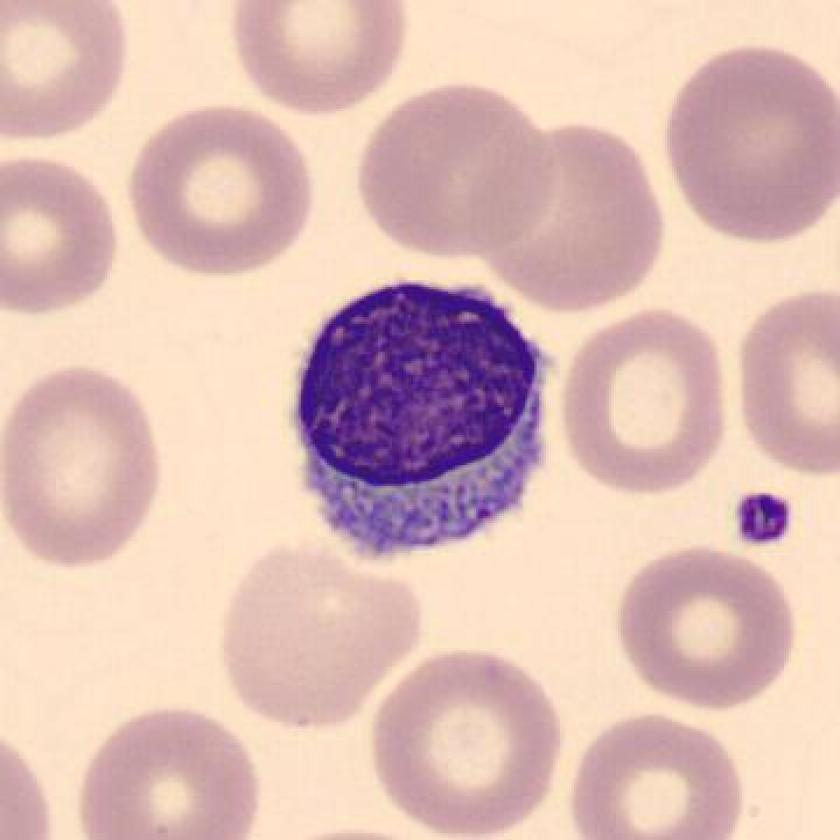lymphocyte: (288, 267, 566, 580)
